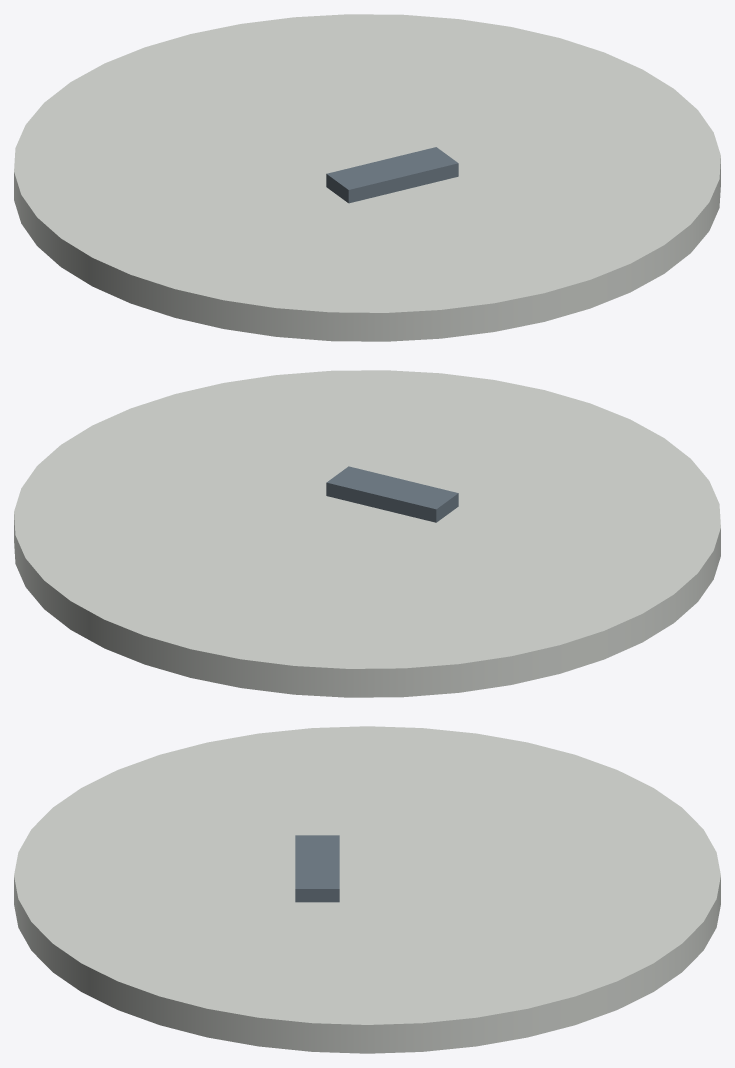
File: dragon_dock.hatch.glb
The picture shows the model from 3 angles, top to bottom: view 1: azimuth 30°, elevation 25°; view 2: azimuth 150°, elevation 25°; view 3: azimuth 270°, elevation 25°; orthographic projection.
Visible parts, largest first — view 1: dragon_dock.hatch.mesh_Pale_thermal_blanket, dragon_dock.hatch.mesh_Machined_steel; view 2: dragon_dock.hatch.mesh_Pale_thermal_blanket, dragon_dock.hatch.mesh_Machined_steel; view 3: dragon_dock.hatch.mesh_Pale_thermal_blanket, dragon_dock.hatch.mesh_Machined_steel.
Boxes of the visible parts, bbox=[...] form: dragon_dock.hatch.mesh_Pale_thermal_blanket: bbox=[14, 14, 720, 341]; dragon_dock.hatch.mesh_Machined_steel: bbox=[326, 147, 458, 203]; dragon_dock.hatch.mesh_Pale_thermal_blanket: bbox=[14, 370, 720, 697]; dragon_dock.hatch.mesh_Machined_steel: bbox=[326, 466, 458, 522]; dragon_dock.hatch.mesh_Pale_thermal_blanket: bbox=[14, 726, 720, 1053]; dragon_dock.hatch.mesh_Machined_steel: bbox=[295, 835, 339, 902].
Bounding box in the file's own units: 1 × 0.066 × 1.
